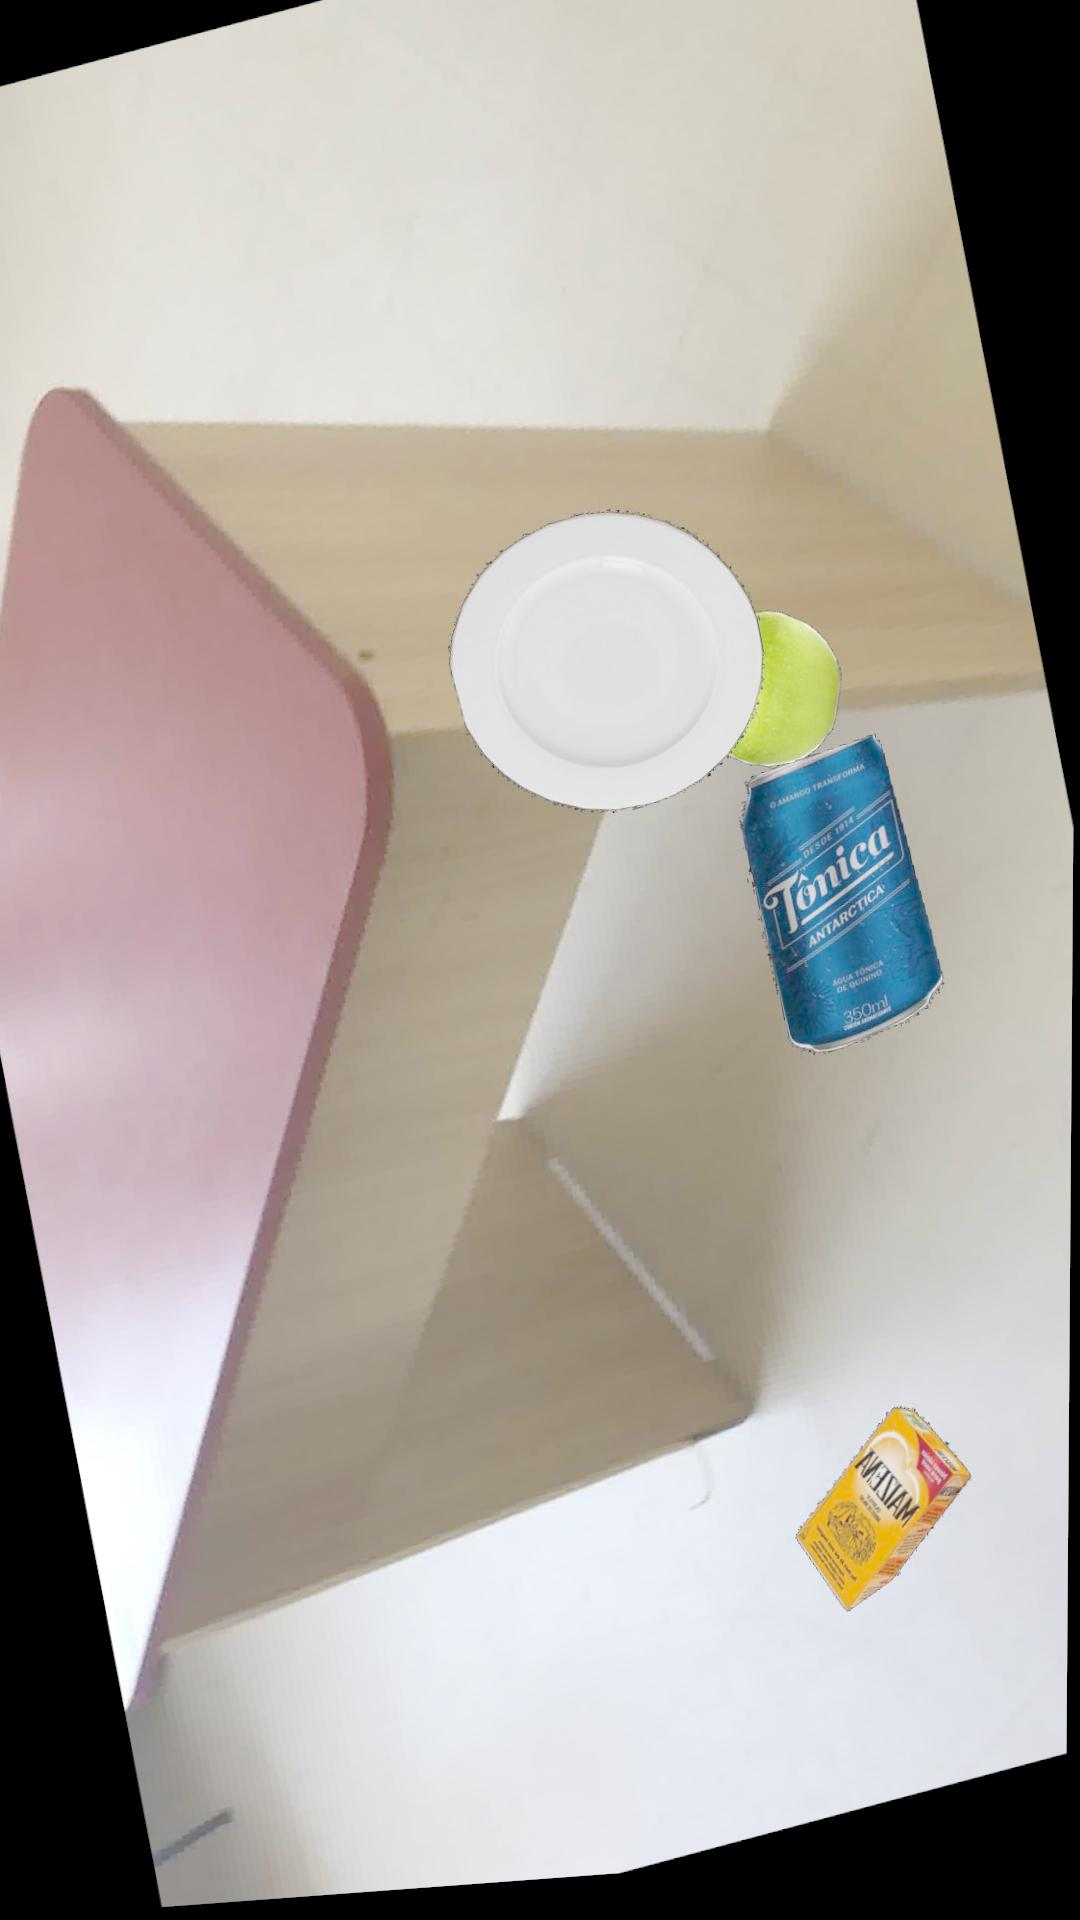green apple: (732, 624, 844, 781)
plate: (452, 521, 767, 822)
tonic: (742, 749, 948, 1067)
